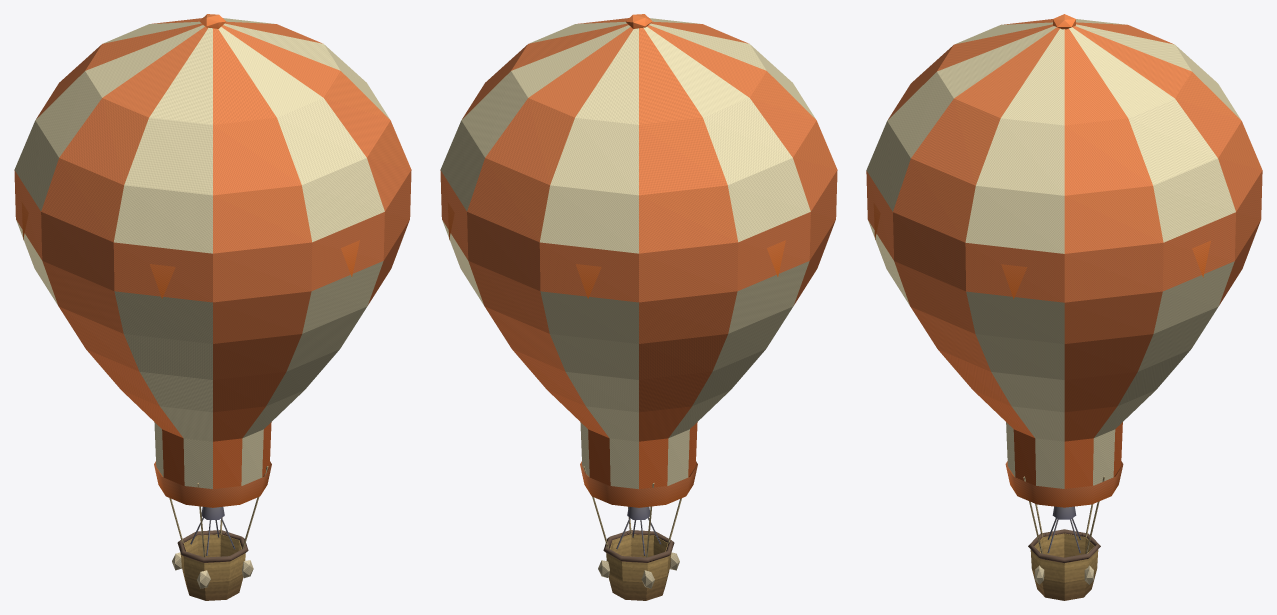
Rendered from balao-ar.glb.
The picture shows the model from 3 angles, left to right: view 1: azimuth 30°, elevation 25°; view 2: azimuth 150°, elevation 25°; view 3: azimuth 270°, elevation 25°; orthographic projection.
Parts seen in each view (by area): view 1: balao-ar; view 2: balao-ar; view 3: balao-ar.
Boxes of the visible parts, x1,y1,x2,y2 form: balao-ar: (14, 14, 411, 600); balao-ar: (440, 14, 837, 600); balao-ar: (866, 14, 1262, 600).
Size of the model in its own units: 8.74 by 13.93 by 8.74.
6 materials, 3 textured.
